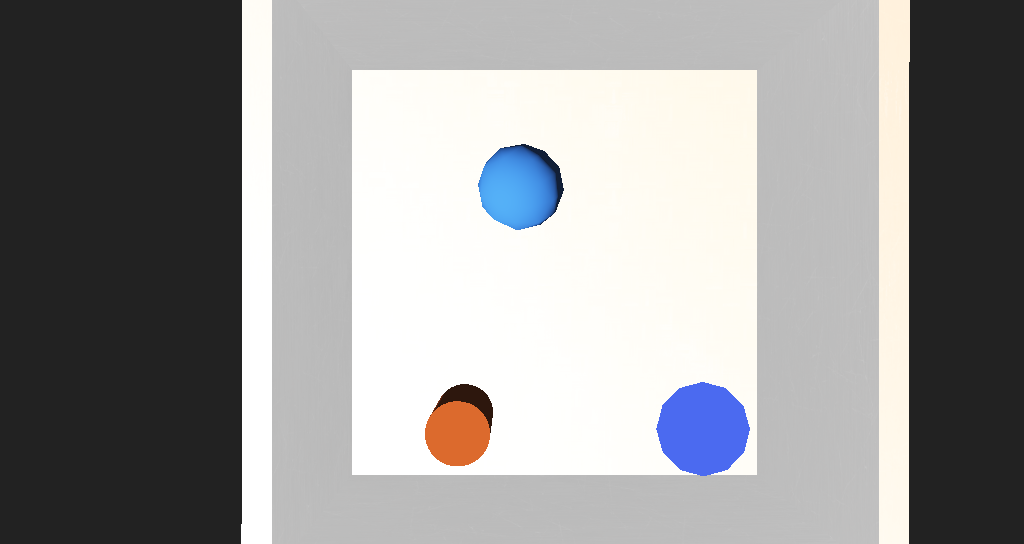cone: (404, 327, 458, 370)
cylinder: (573, 322, 640, 375)
sphere: (445, 200, 512, 248)
